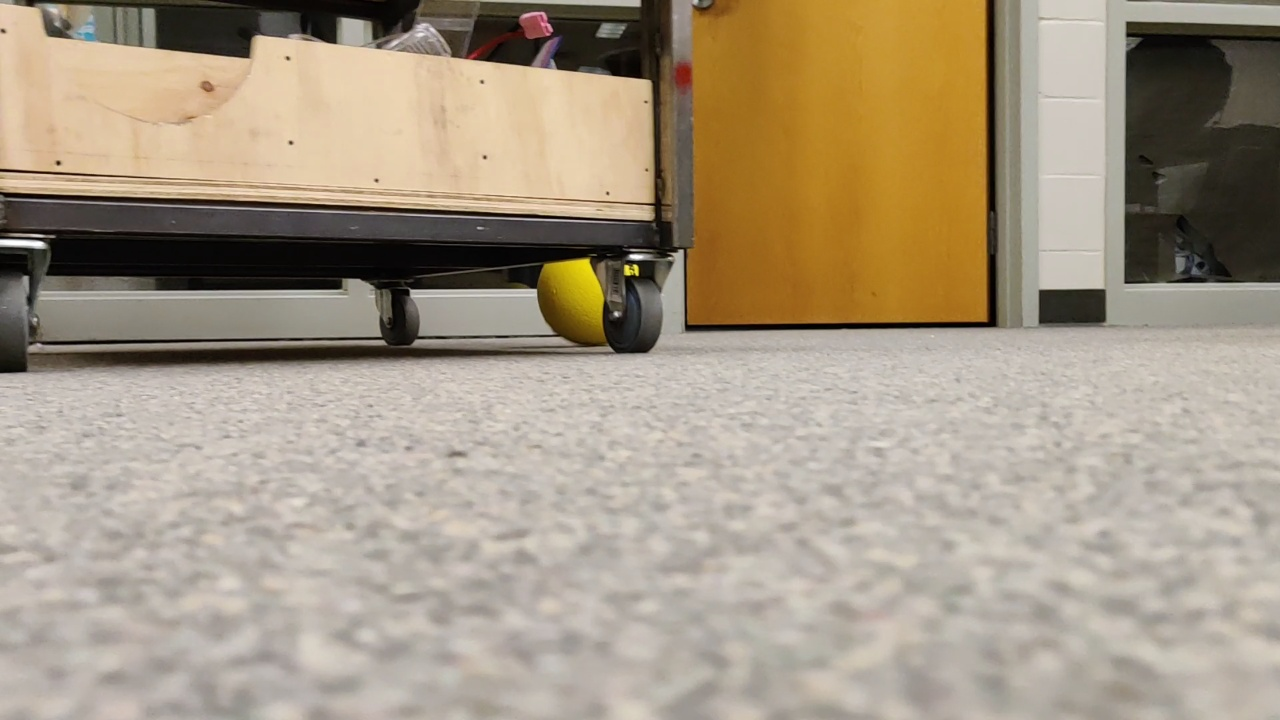Ball: (534, 244, 628, 345)
